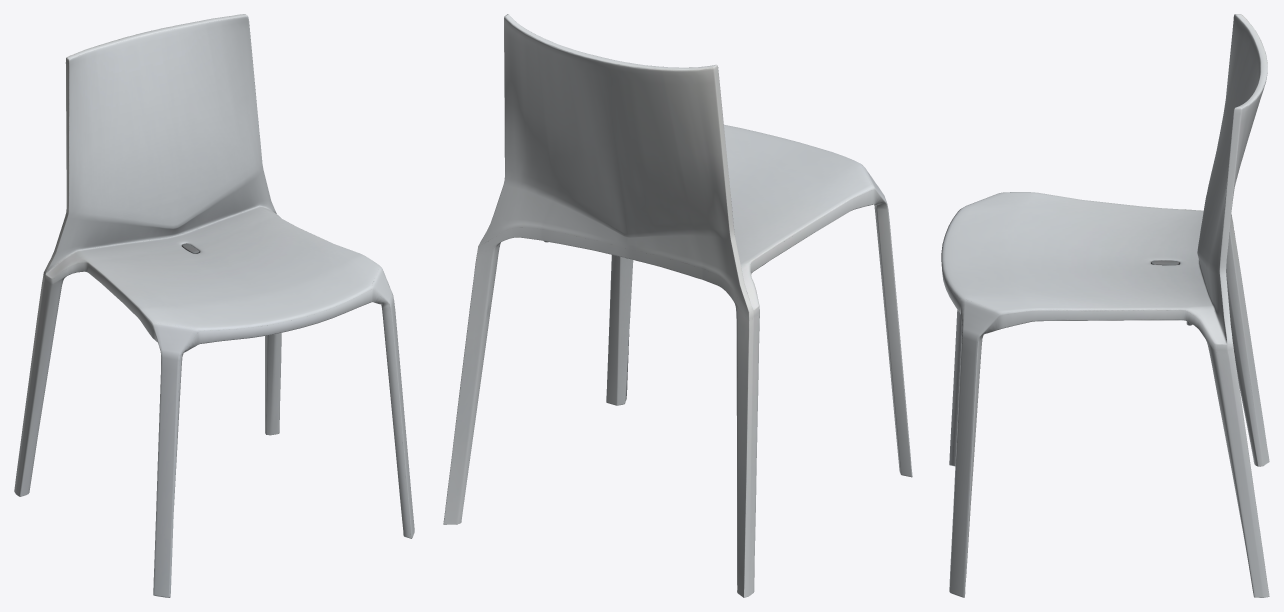
Rendered from plana_black_plastic.glb.
3 renders of one model, left to right at view 1: azimuth 30°, elevation 25°; view 2: azimuth 150°, elevation 25°; view 3: azimuth 270°, elevation 25°, orthographic. The views are drawn at different scales.
Parts seen in each view (by area): view 1: plana-white; view 2: plana-white; view 3: plana-white.
Boxes of the visible parts, bbox=[...] form: plana-white: bbox=[14, 14, 414, 597]; plana-white: bbox=[443, 14, 912, 597]; plana-white: bbox=[941, 14, 1269, 597].
Size of the model in its own units: 0.4921 by 0.7821 by 0.4959.
Materials: 1 (1 with a texture image).
